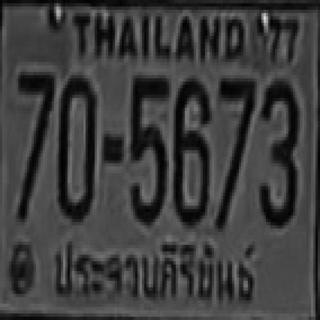N00: (56, 72, 95, 219)
N03: (257, 78, 298, 225)
N05: (127, 75, 166, 222)
N06: (171, 77, 210, 224)
N07: (214, 77, 254, 227), (16, 70, 52, 217), (16, 68, 52, 173)
P50: (45, 236, 260, 309)
